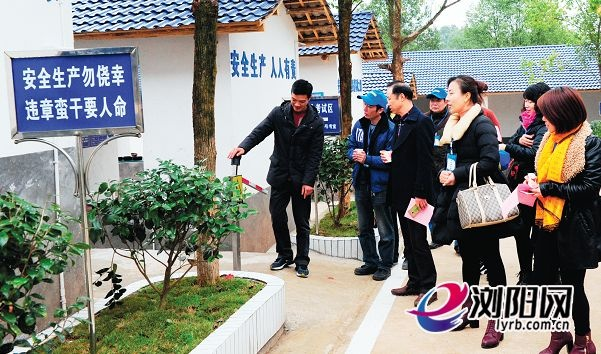blue: (359, 86, 388, 122), (425, 84, 449, 116)
none: (535, 84, 587, 140), (444, 72, 480, 117), (518, 81, 550, 120), (382, 79, 414, 117), (287, 77, 313, 114)
